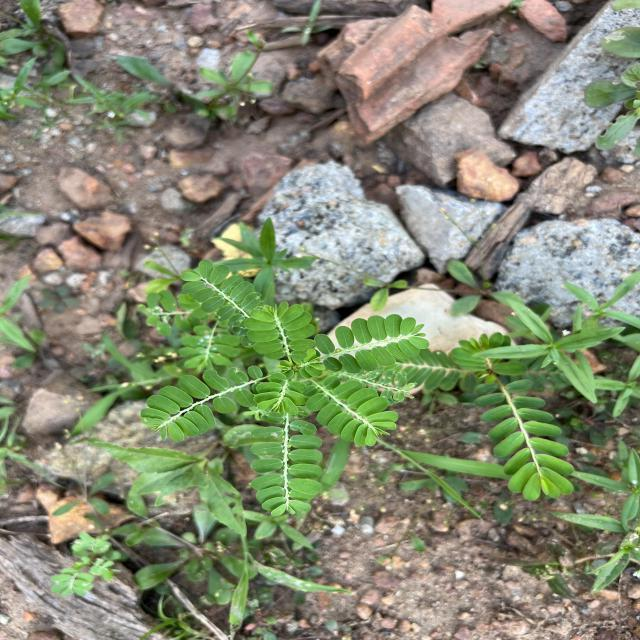Phyllanthus niruri: (471, 376, 576, 502), (139, 364, 273, 445), (313, 310, 434, 376), (248, 416, 323, 519), (306, 377, 399, 450), (179, 256, 266, 330), (244, 299, 319, 362), (254, 371, 312, 418)
